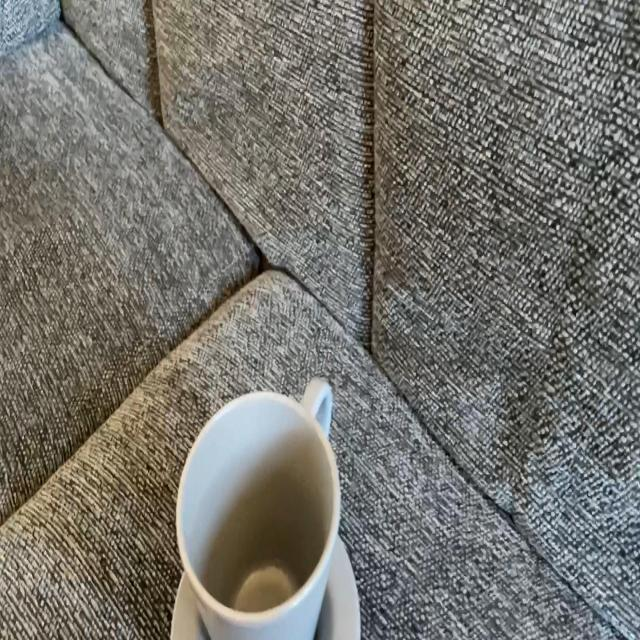cup: (161, 394, 353, 640)
